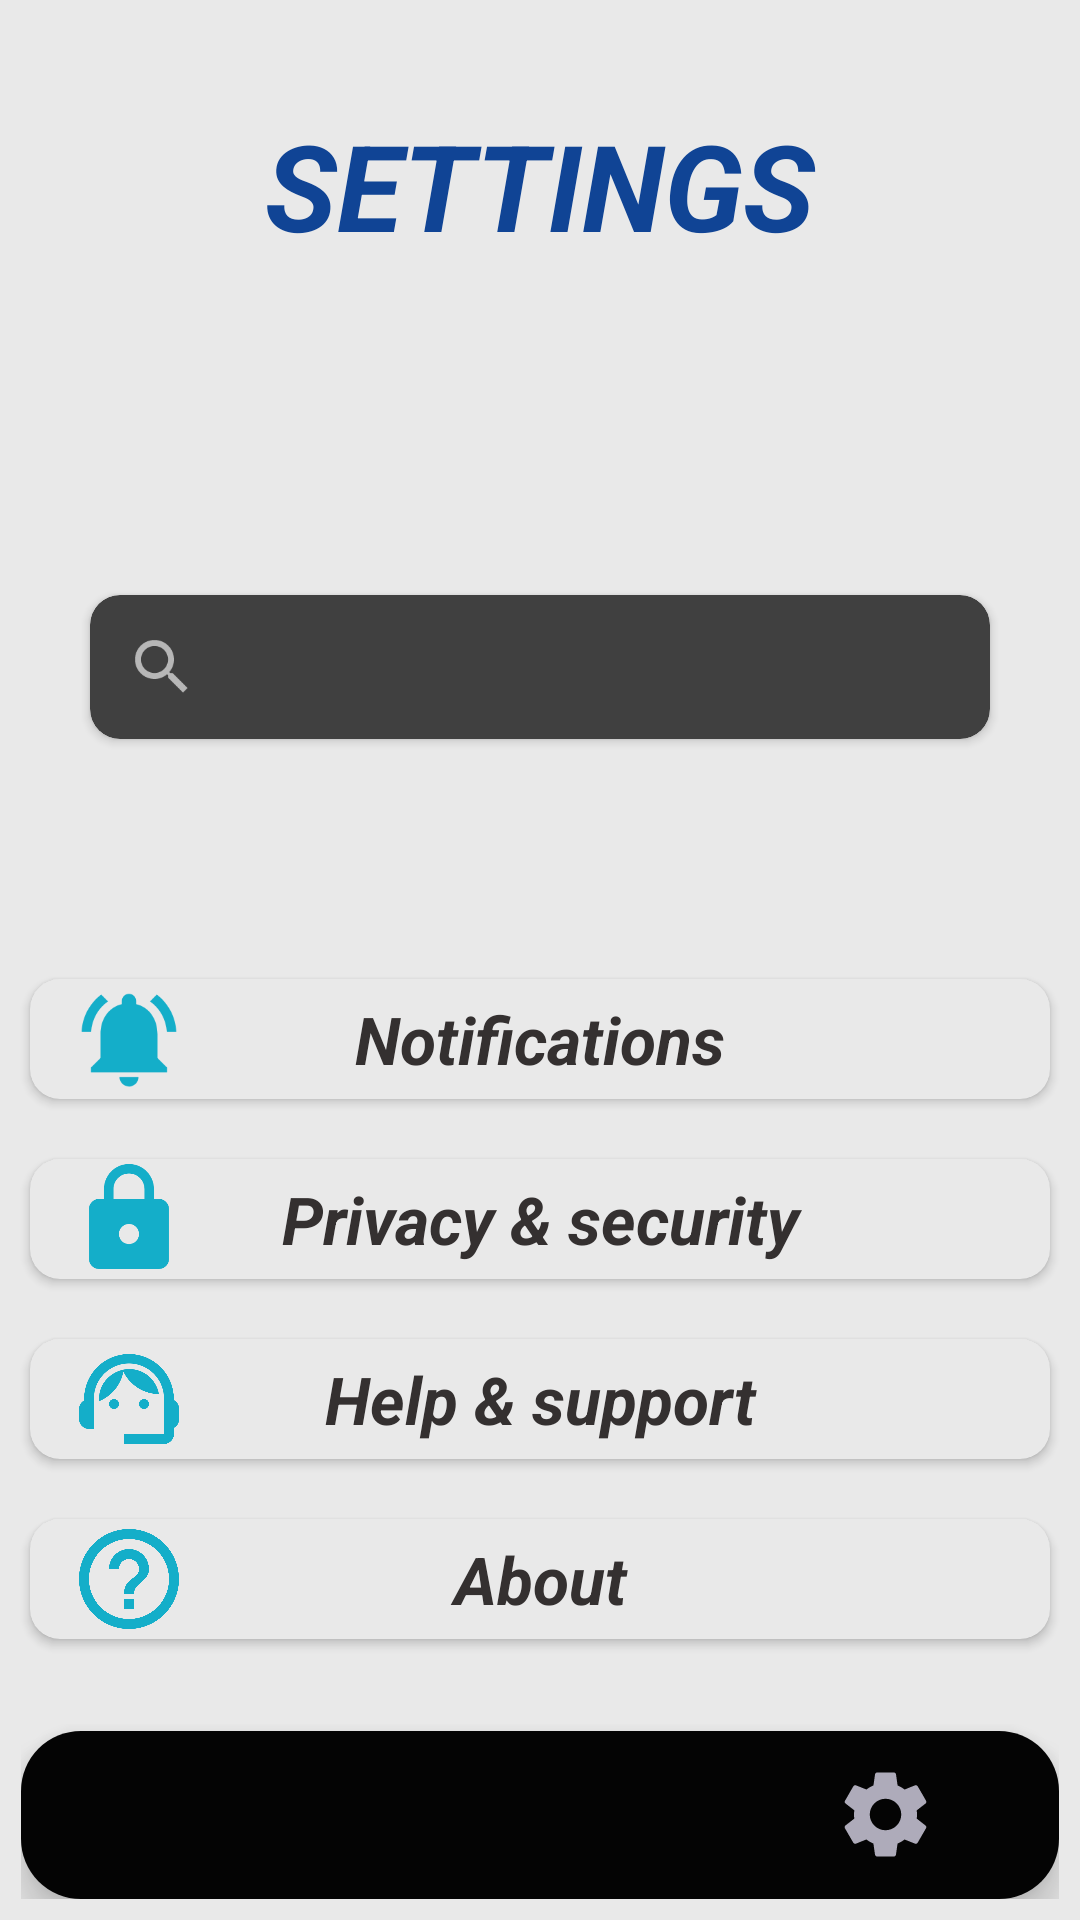

Screen size 1080x1920. Icon name, then its box in pixels as (x1, y1, x2, y2):
lock: (89, 1164, 169, 1269)
support agent: (79, 1354, 179, 1444)
